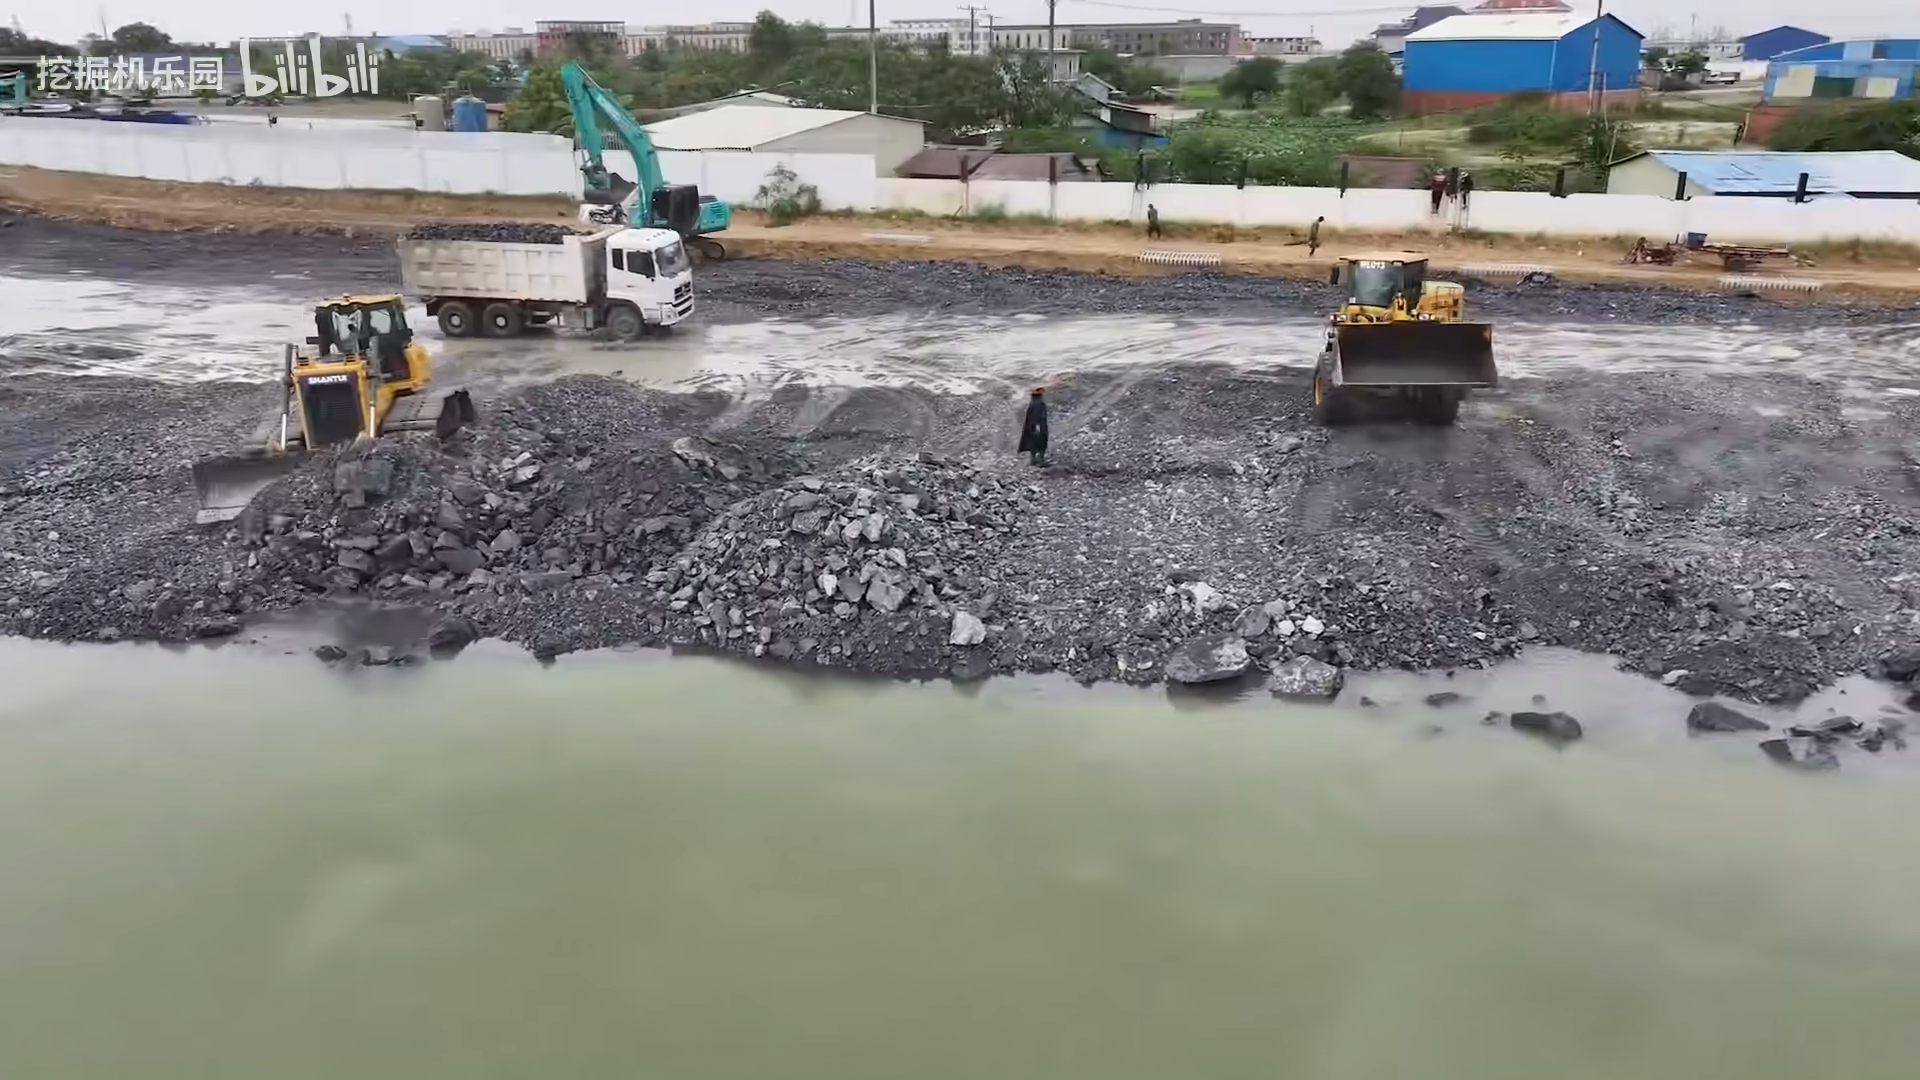excavator: (555, 45, 742, 281)
